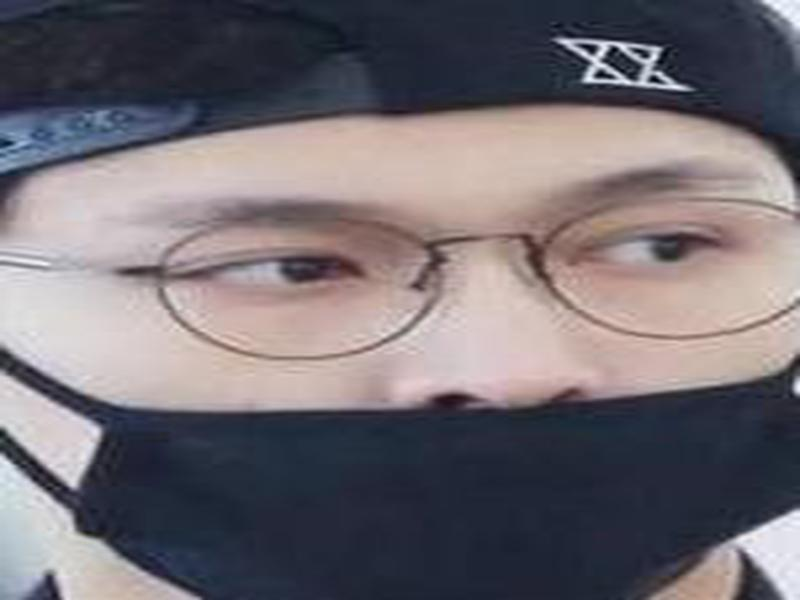with_mask: (1, 114, 798, 600)
